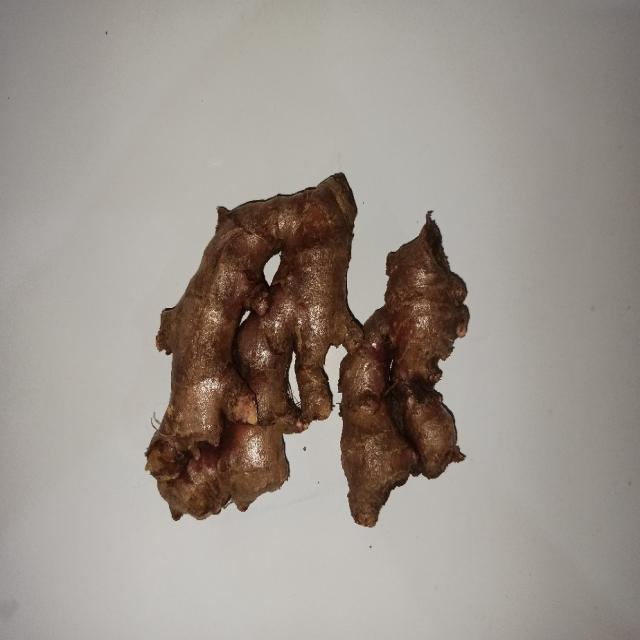ginger: (141, 176, 355, 516), (337, 228, 466, 527)
